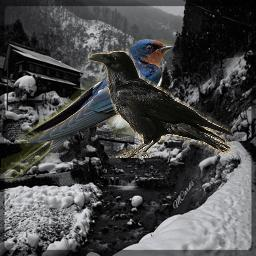Crow: (88, 51, 233, 158)
Swallow: (1, 39, 174, 183)
